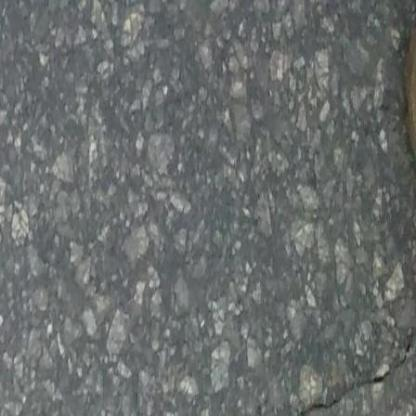Cracks: (290, 329, 416, 414)
